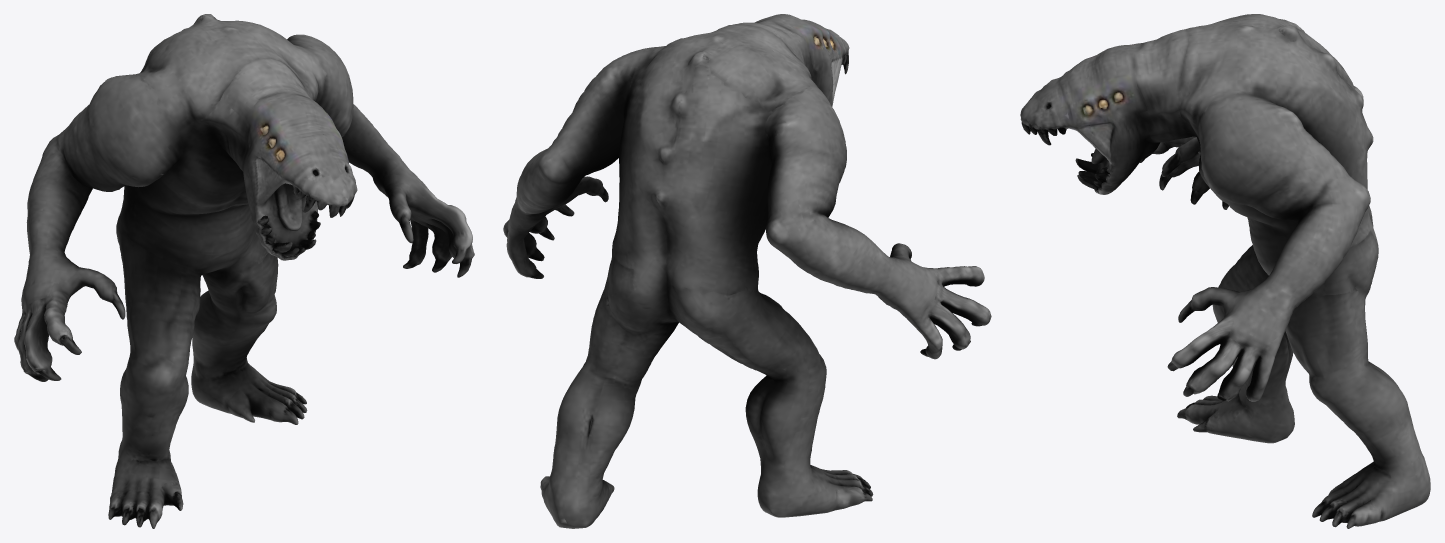
The model's file is MZ4250 - Gray Render-2.glb.
The picture shows the model from 3 angles, left to right: view 1: azimuth 30°, elevation 25°; view 2: azimuth 150°, elevation 25°; view 3: azimuth 270°, elevation 25°; orthographic projection.
Parts seen in each view (by area): view 1: Body.003; view 2: Body.003; view 3: Body.003.
Boxes of the visible parts, <box> form: Body.003: <box>14,14,474,528</box>; Body.003: <box>503,14,991,528</box>; Body.003: <box>1020,14,1430,528</box>.
Bounding box in the file's own units: 1.4 × 1.32 × 1.09.
1 material, 1 textured.
